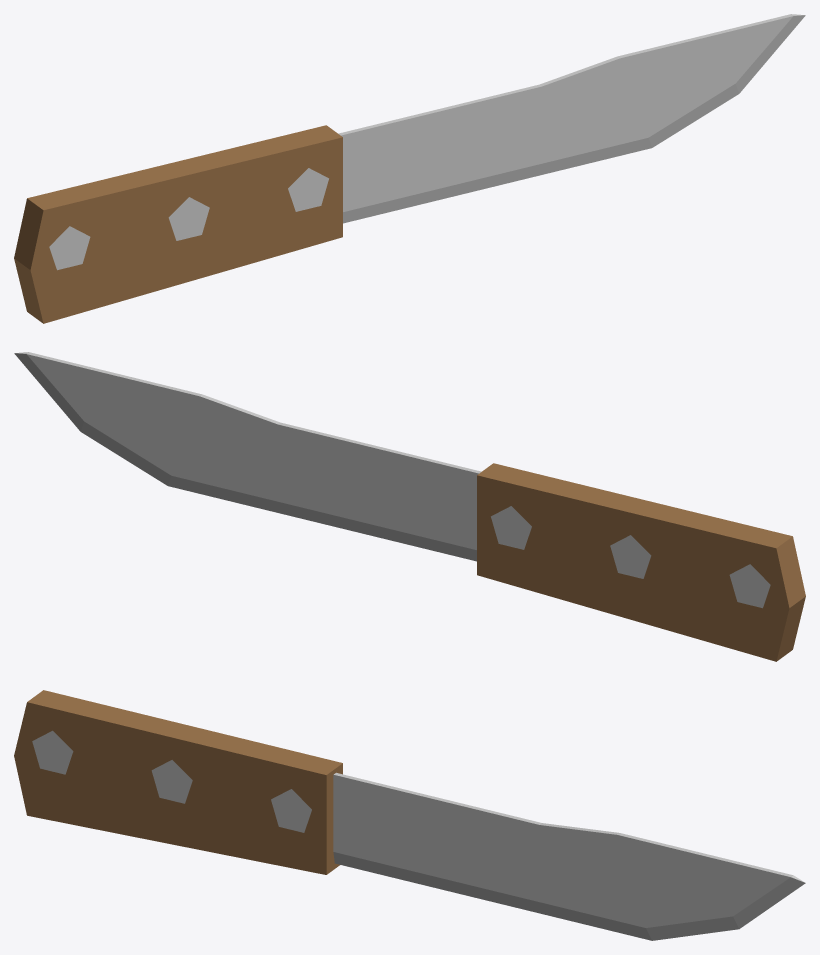
Rendered from Knife4.fbx.
3 views of the same model, one above another, from view 1: azimuth 30°, elevation 25°; view 2: azimuth 150°, elevation 25°; view 3: azimuth 330°, elevation 25° (orthographic).
Parts seen in each view (by area): view 1: Cube; view 2: Cube; view 3: Cube.
Part boxes in pixels (left/top/right/bottom): Cube: left=14, top=14, right=805, bottom=323; Cube: left=14, top=352, right=805, bottom=661; Cube: left=14, top=690, right=805, bottom=940.
Bounding box in the file's own units: 0.325 × 0.0468 × 0.0122.
